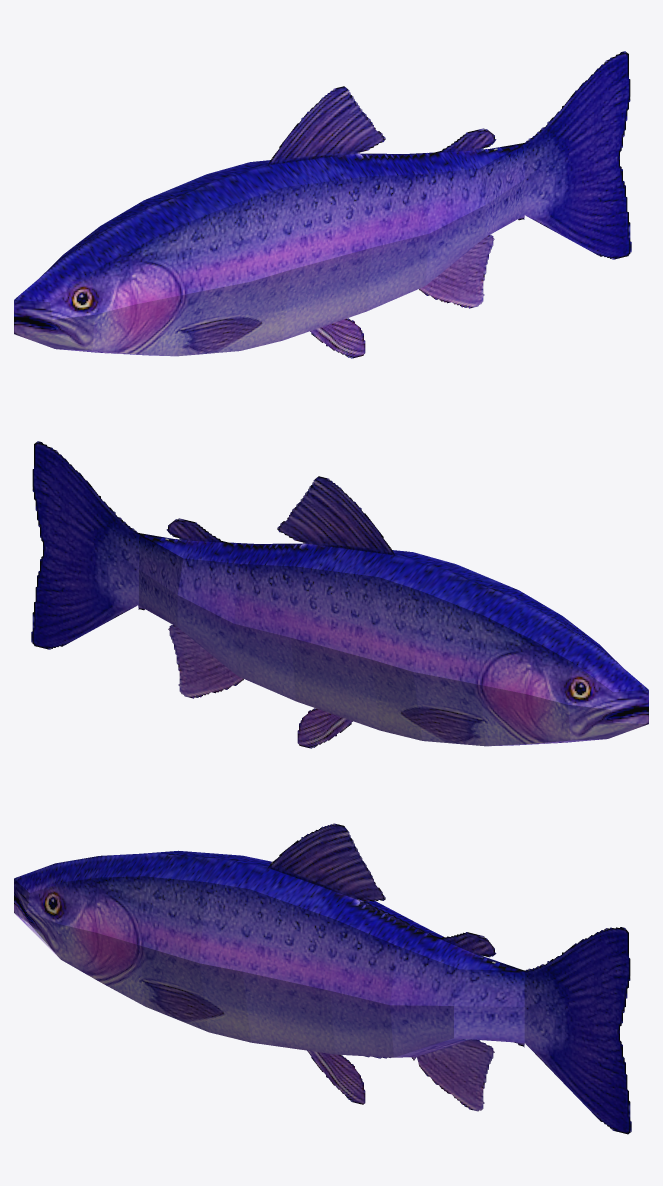
Rendered from Krylox.fbx.
The picture shows the model from 3 angles, top to bottom: view 1: azimuth 30°, elevation 25°; view 2: azimuth 150°, elevation 25°; view 3: azimuth 330°, elevation 25°; orthographic projection.
Visible parts, largest first — view 1: Rainbow_Trout; view 2: Rainbow_Trout; view 3: Rainbow_Trout.
Boxes of the visible parts, box(x1,y1,x2,y2) form: Rainbow_Trout: box(14, 51, 631, 358); Rainbow_Trout: box(31, 441, 648, 748); Rainbow_Trout: box(14, 823, 631, 1134).
Bounding box in the file's own units: 118 × 56.94 × 16.22.
1 material, 1 textured.
